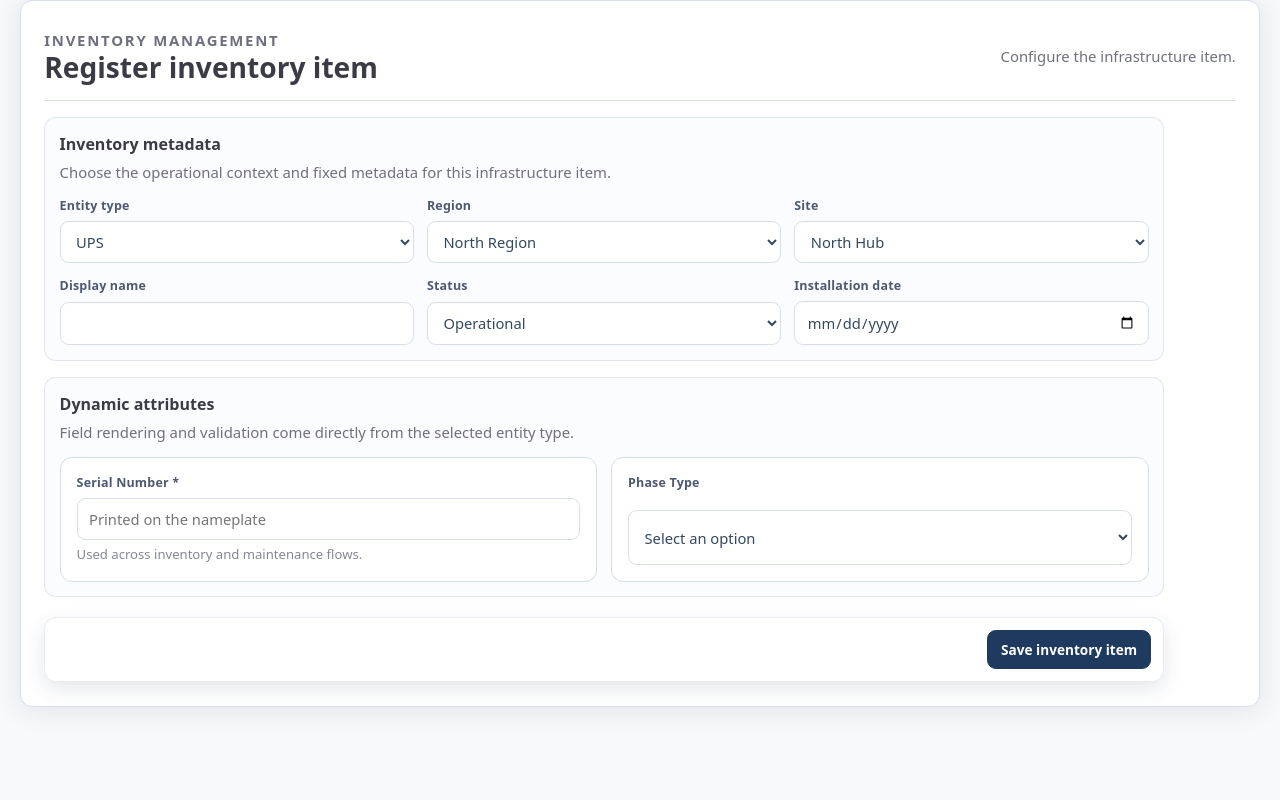
InventoryItemForm › should validate required fields before submission
The image size is (1280, 800).
What coordinates should you click on to do the following:
click the button "Save inventory item"
I would click on:
 (1069, 650)
Its box is [987,630,1151,669].
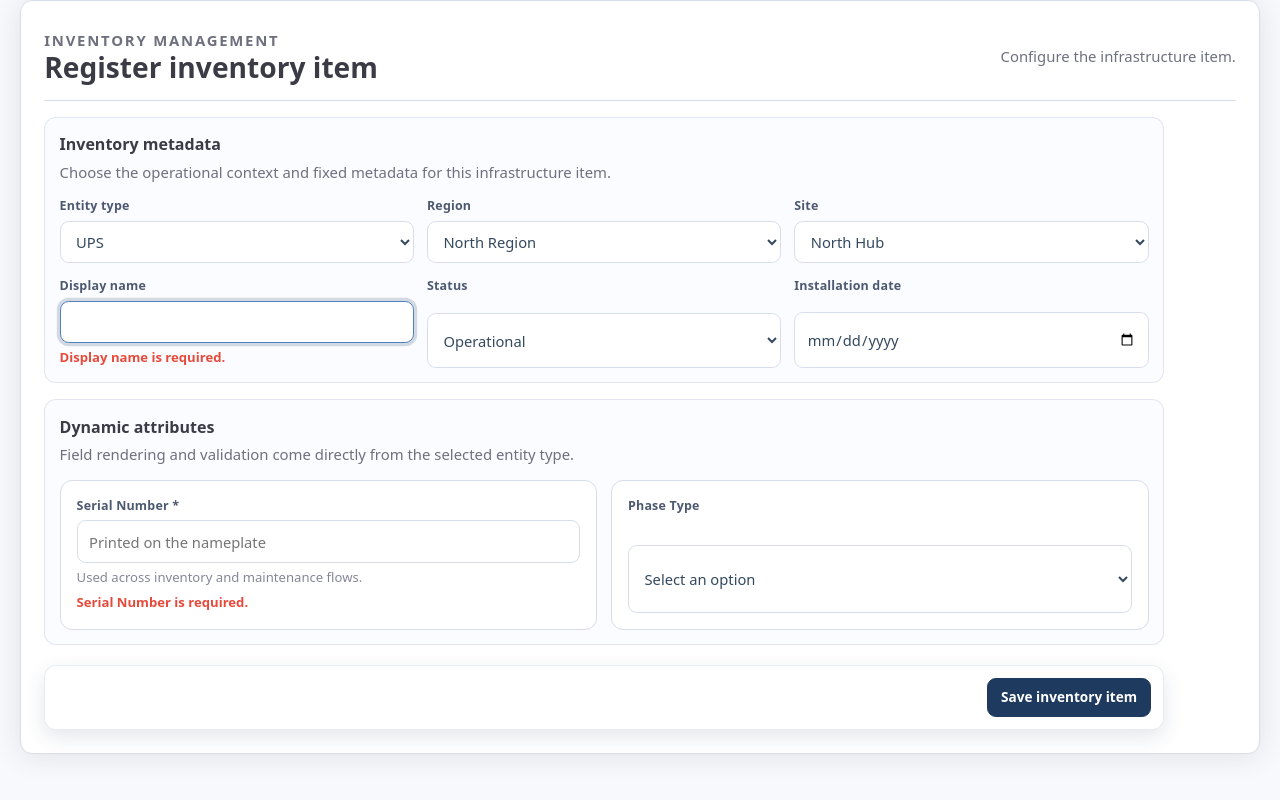
Check: the text "Display name is required." is shown, box [60,348,225,366]
Check: the text "Serial Number is required." is shown, box [77,593,248,611]
